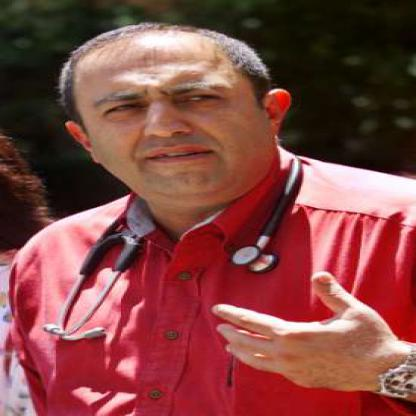face: (77, 25, 268, 203)
